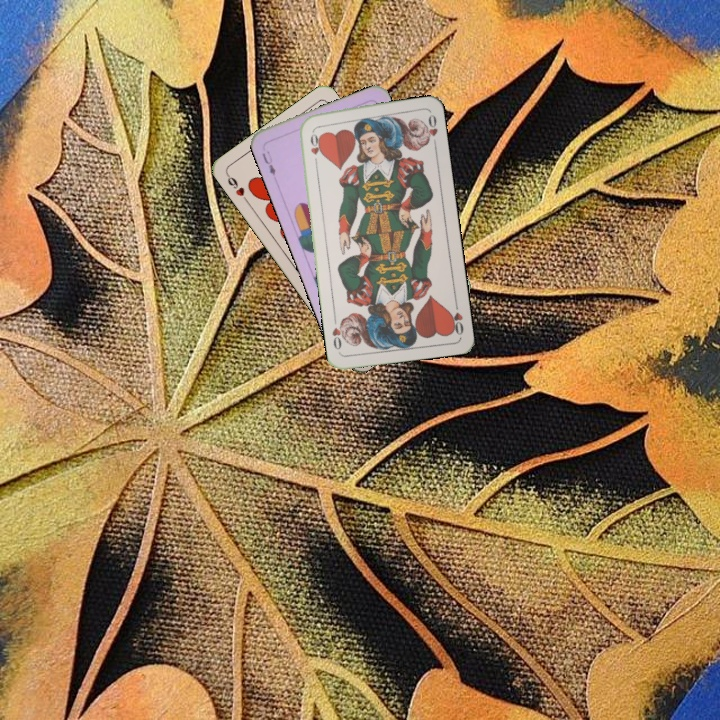EU: (258, 147, 278, 178)
H9: (222, 170, 251, 205)
HO: (446, 297, 466, 337), (306, 126, 323, 167)
